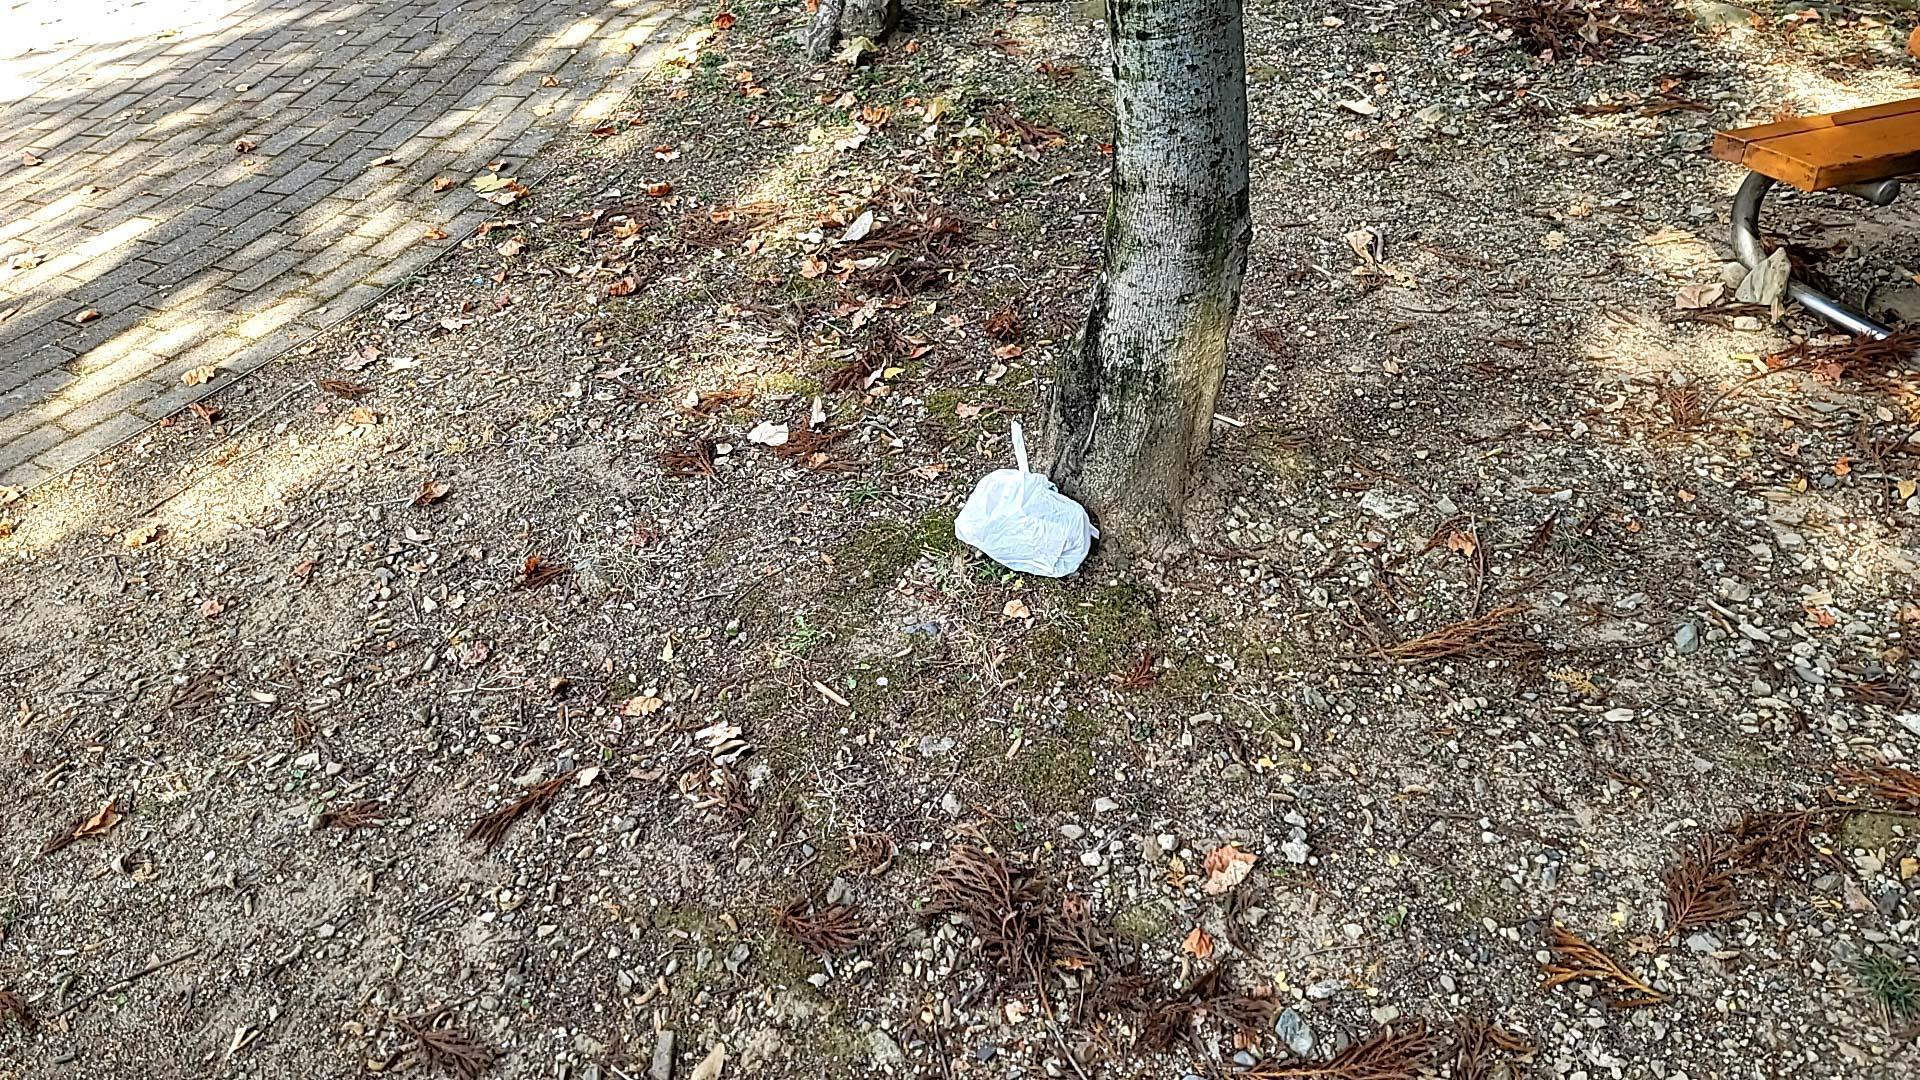white_bag: (932, 409, 1112, 591)
